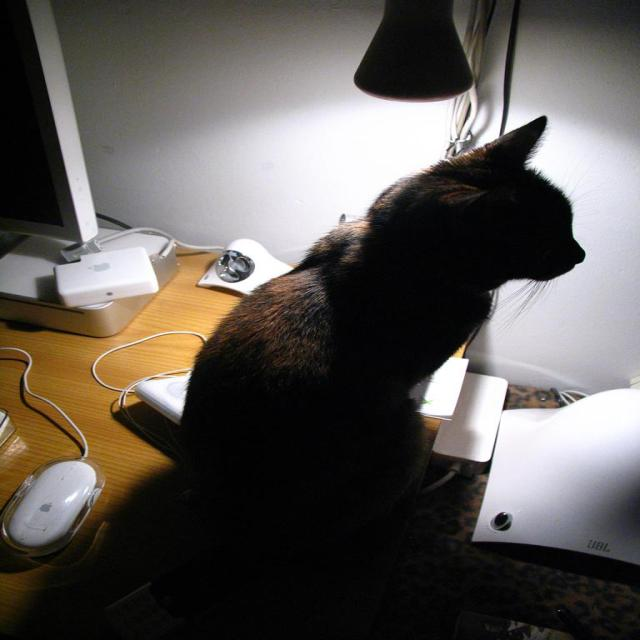Computer-mouse: (0, 452, 109, 559)
